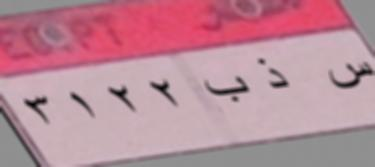1: (68, 82, 98, 124)
2: (146, 74, 184, 116), (108, 78, 138, 117)
3: (15, 88, 57, 130)
baa: (204, 70, 249, 107)
seen: (324, 58, 375, 97)
zaal: (256, 51, 289, 98)
